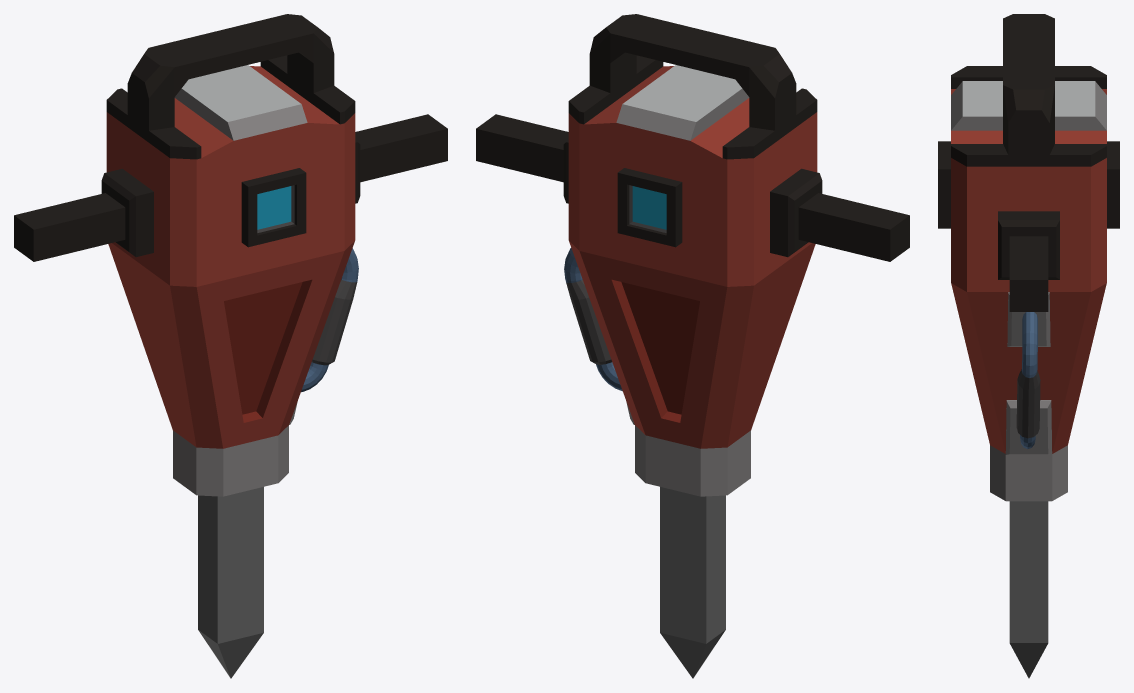
The model's file is AdvancedDrill.fbx.
The picture shows the model from 3 angles, left to right: view 1: azimuth 30°, elevation 25°; view 2: azimuth 150°, elevation 25°; view 3: azimuth 270°, elevation 25°; orthographic projection.
Parts seen in each view (by area): view 1: AdvancedDrill; view 2: AdvancedDrill; view 3: AdvancedDrill.
Boxes of the visible parts, x1,y1,x2,y2 form: AdvancedDrill: (14,14,447,678); AdvancedDrill: (476,14,909,678); AdvancedDrill: (938,14,1119,678).
Bounding box in the file's own units: 181 × 267 × 70.
